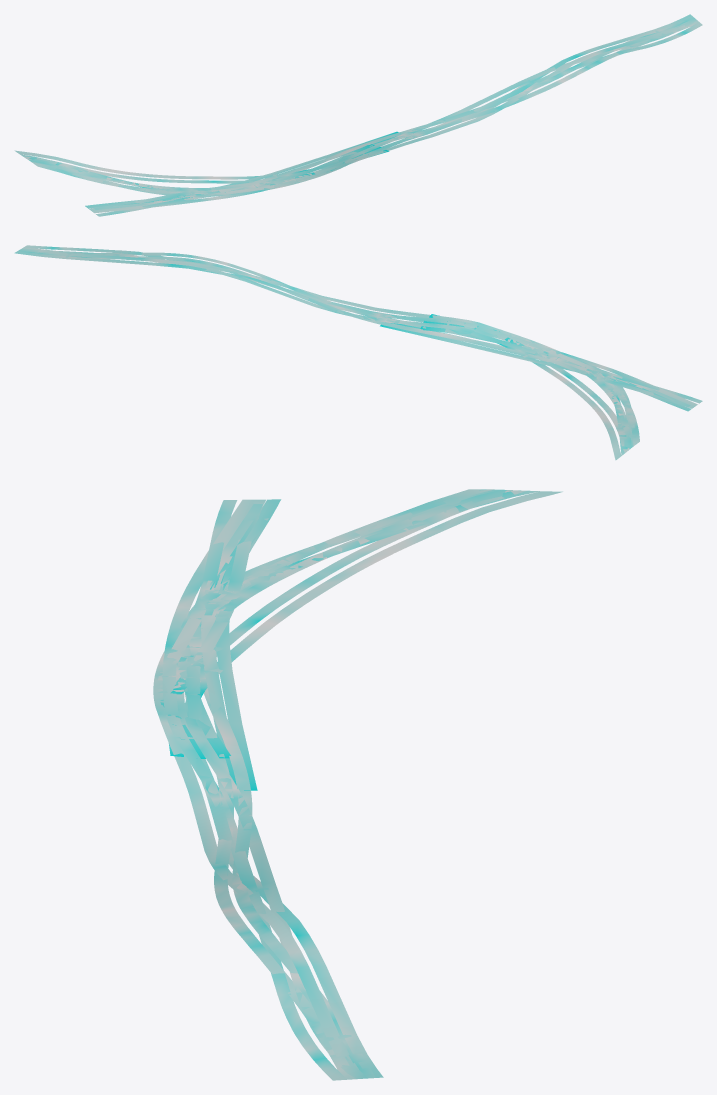
3 views of the same model, one above another, from view 1: azimuth 30°, elevation 25°; view 2: azimuth 150°, elevation 25°; view 3: azimuth 270°, elevation 25° (orthographic). The views are drawn at different scales.
Parts seen in each view (by area): view 1: SpaceCenter_Long3_GenerateRoad_Sand_TireTracks_Narrow_Mesh_x; view 2: SpaceCenter_Long3_GenerateRoad_Sand_TireTracks_Narrow_Mesh_x; view 3: SpaceCenter_Long3_GenerateRoad_Sand_TireTracks_Narrow_Mesh_x.
Boxes of the visible parts, box(x1,y1,x2,y2) form: SpaceCenter_Long3_GenerateRoad_Sand_TireTracks_Narrow_Mesh_x: box(14, 14, 702, 216); SpaceCenter_Long3_GenerateRoad_Sand_TireTracks_Narrow_Mesh_x: box(14, 245, 702, 460); SpaceCenter_Long3_GenerateRoad_Sand_TireTracks_Narrow_Mesh_x: box(153, 489, 562, 1080).
Bounding box in the file's own units: 649 × 2304 × 90.74.
